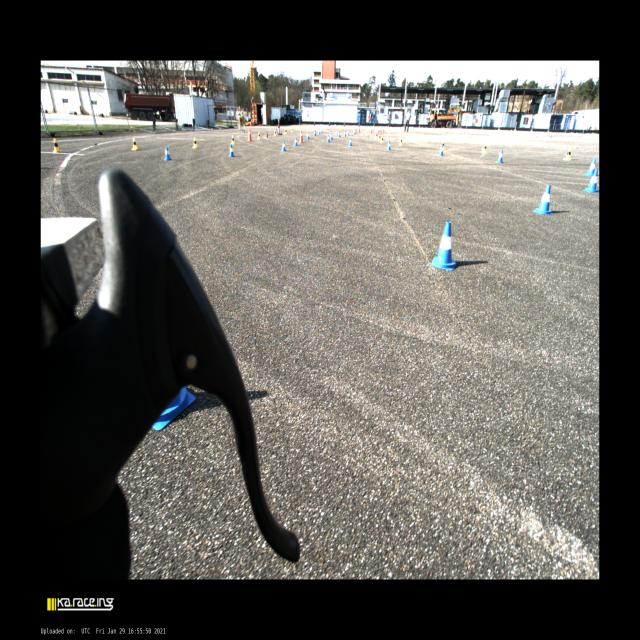blue_cone: (152, 388, 196, 430), (431, 222, 456, 270), (532, 185, 553, 214), (582, 169, 599, 193), (584, 159, 597, 176), (496, 149, 504, 163), (164, 146, 172, 160), (228, 144, 236, 157), (438, 144, 444, 156), (386, 140, 392, 150), (281, 141, 286, 151), (293, 137, 298, 146), (326, 134, 331, 142), (348, 137, 352, 146), (306, 132, 310, 140), (330, 132, 333, 140), (338, 131, 341, 138), (347, 130, 350, 136), (318, 129, 321, 134), (344, 130, 346, 137), (353, 129, 355, 135), (314, 130, 316, 136), (320, 128, 322, 134)
large_orange_cone: (247, 128, 253, 141), (299, 130, 303, 143)
orange_cone: (358, 128, 361, 133), (356, 128, 357, 134), (371, 128, 372, 134), (355, 129, 356, 134), (382, 129, 383, 134), (378, 130, 379, 135), (381, 130, 382, 134), (380, 130, 380, 134)
yellow_cone: (53, 138, 61, 153), (563, 147, 571, 161), (132, 138, 138, 150), (192, 137, 198, 148), (482, 142, 487, 154), (230, 135, 235, 144), (257, 132, 261, 140), (442, 141, 445, 150), (399, 138, 402, 146), (381, 135, 384, 143), (284, 127, 287, 134), (238, 111, 241, 117), (291, 128, 294, 133), (378, 134, 380, 141), (241, 110, 243, 117), (274, 130, 276, 136), (376, 133, 378, 138), (375, 130, 377, 135)
